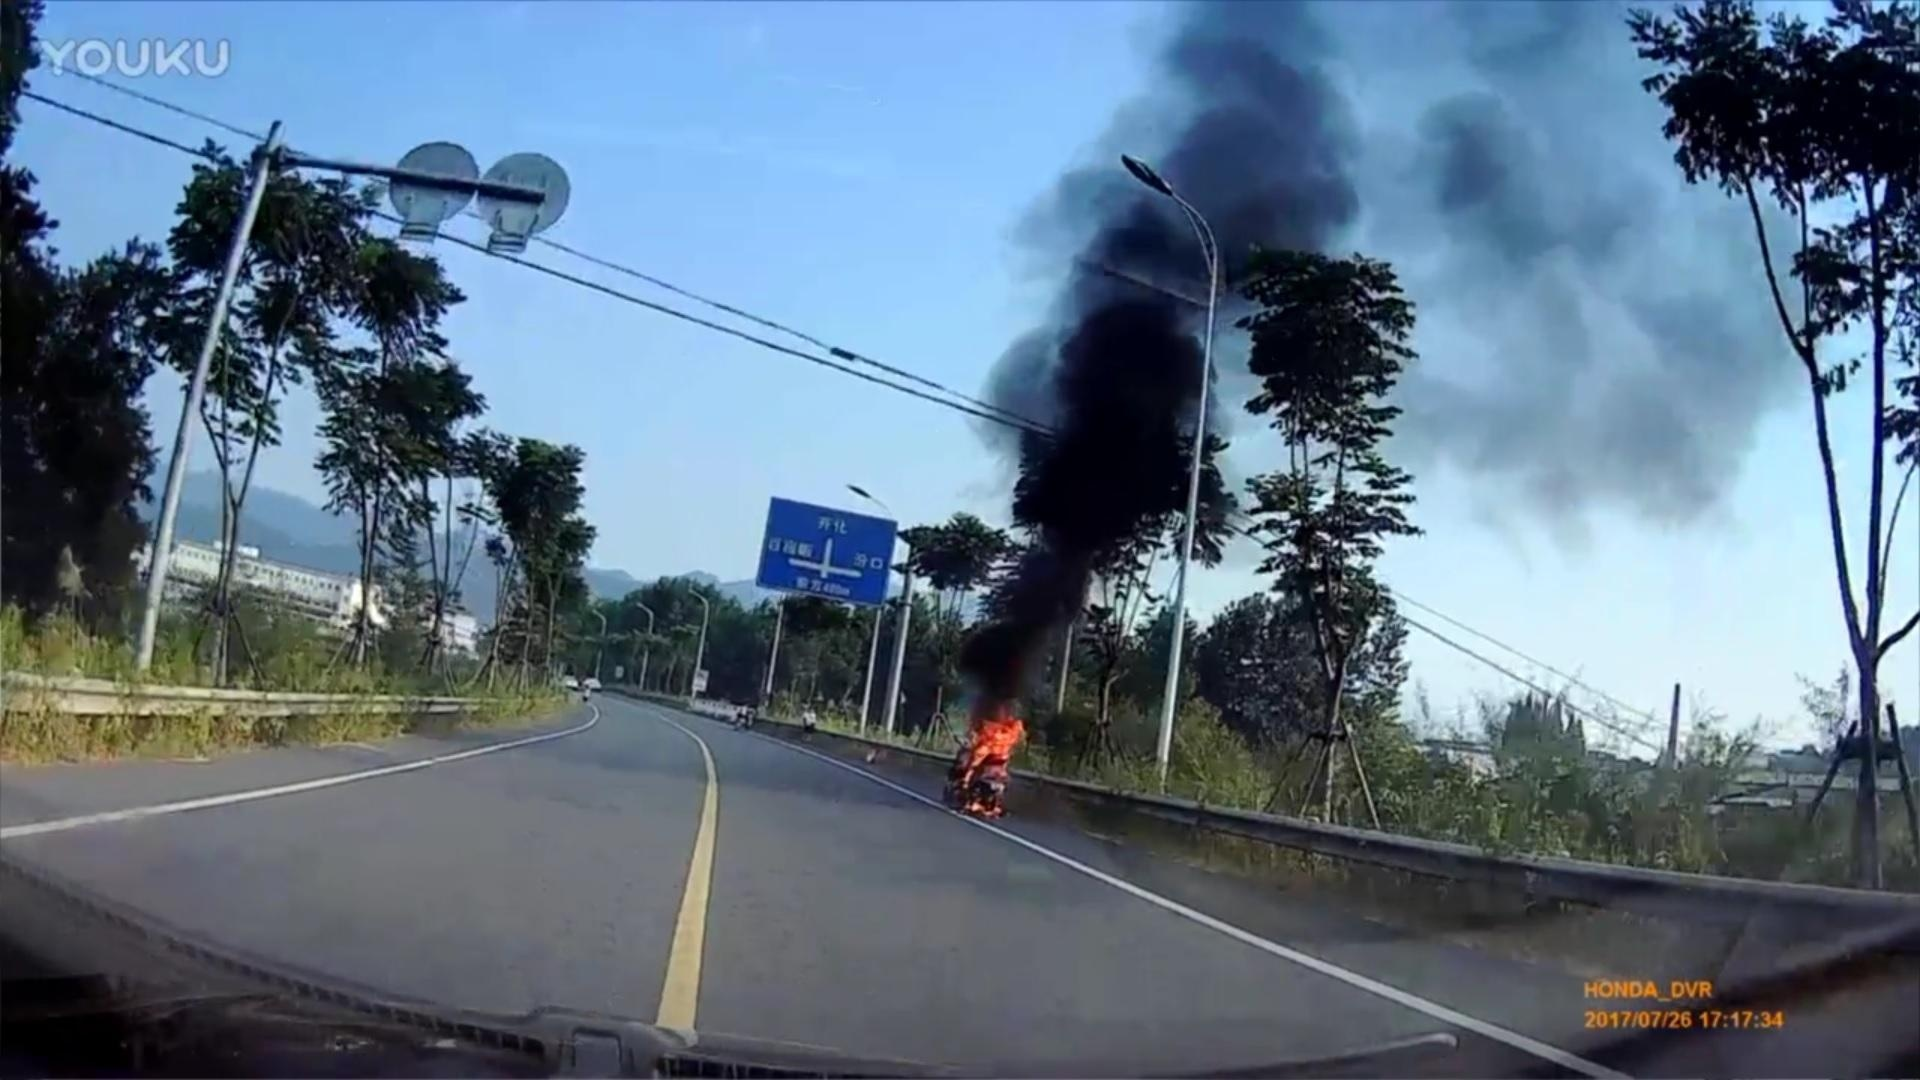fire: (952, 707, 1022, 819)
